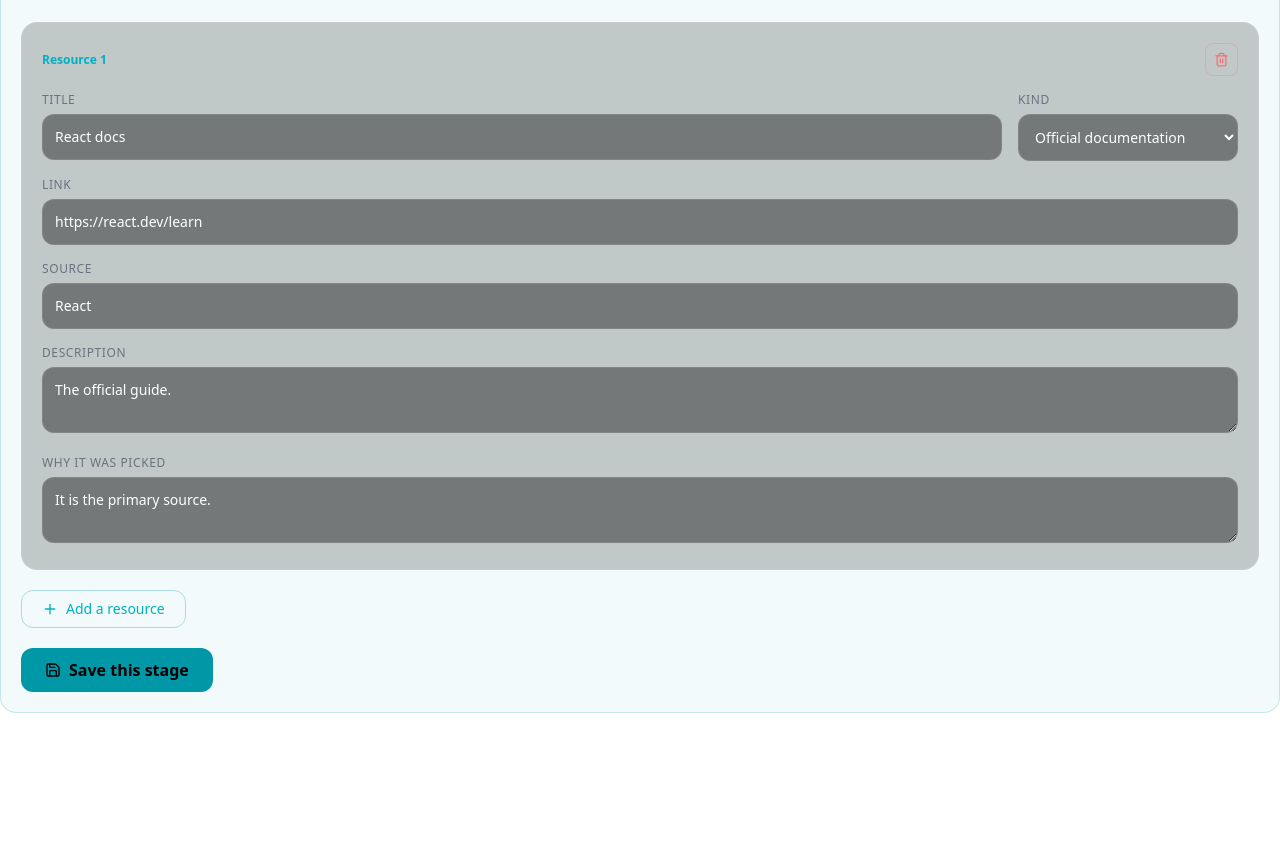
Test case: the resources form adds one, capped at three
The image size is (1280, 857).
Check: the field showing "React docs" is shown, box x1=42 y1=114 x2=1002 y2=160
Click the button "Add a resource". click: (103, 609)
box: x1=21 y1=590 x2=186 y2=628
(page scrolled)
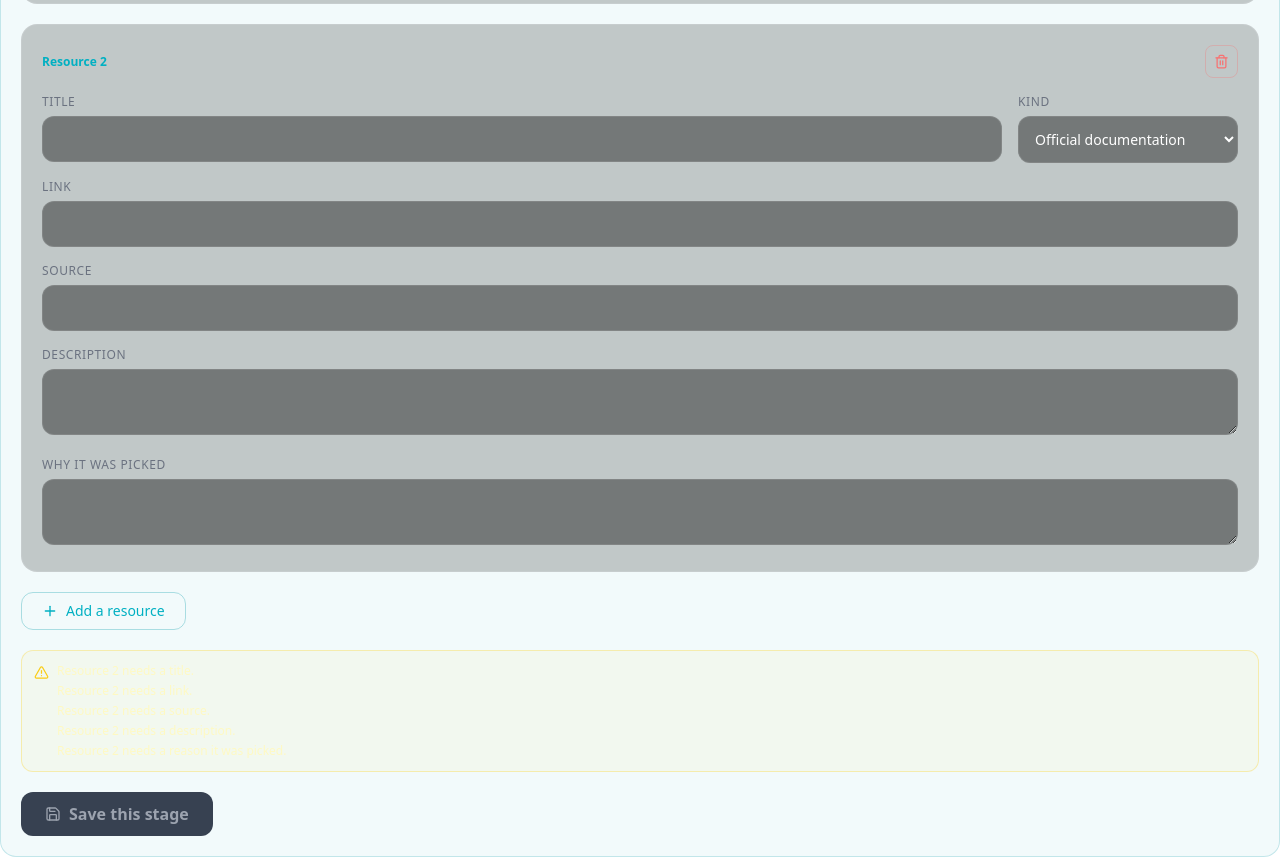
Click the button "Add a resource". click: (103, 611)
box: x1=21 y1=592 x2=186 y2=630
(page scrolled)
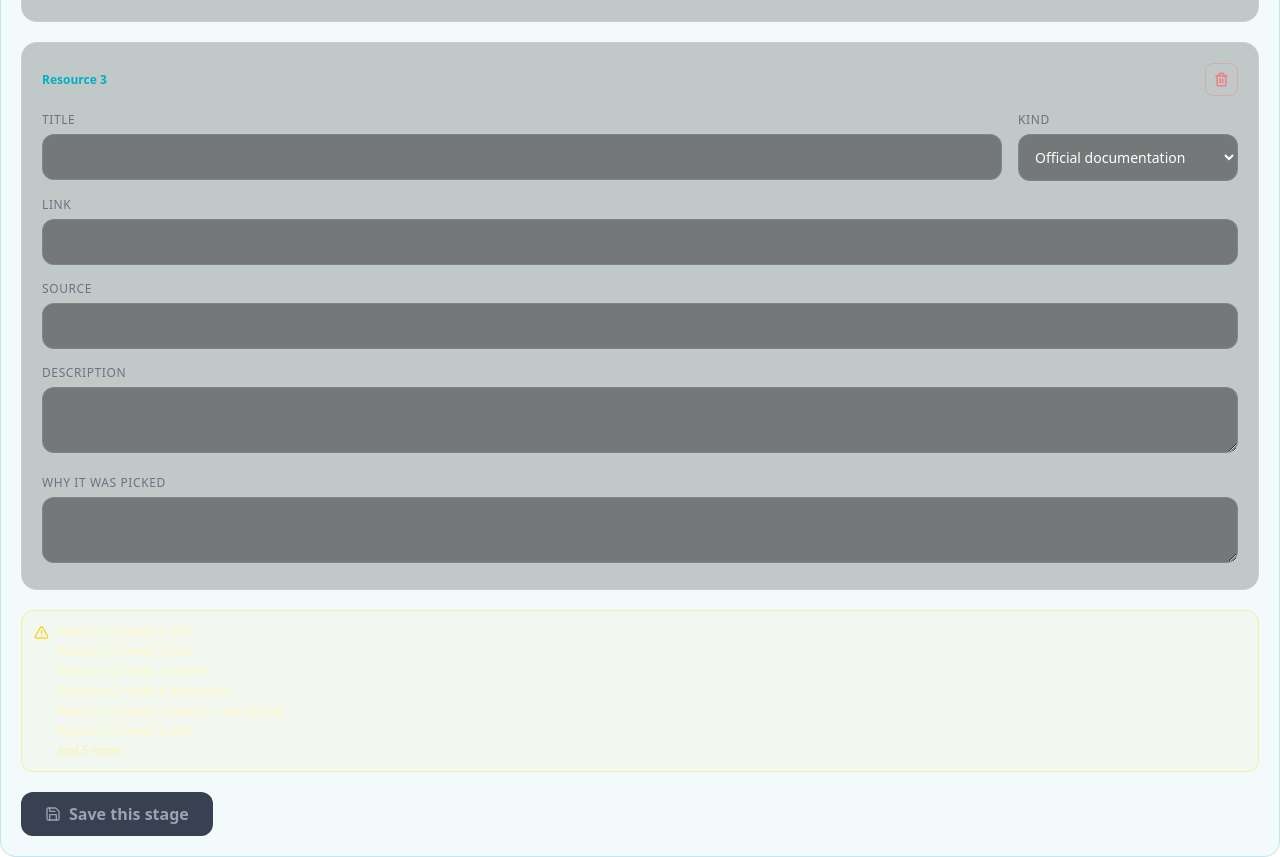
Check: the button "Save this stage" is disabled, box x1=21 y1=792 x2=213 y2=836
Check: the text "Resource 3" is shown, box x1=42 y1=72 x2=107 y2=88
Check: the button "Add a resource" is gone
